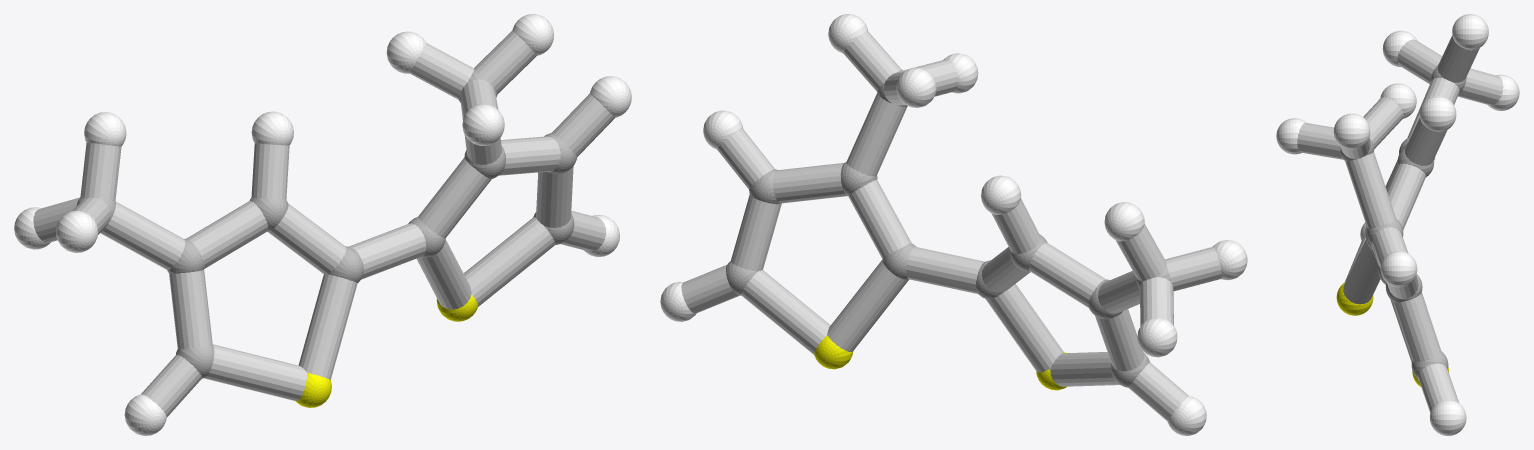
File: Methylthiophene_Phi_15_Theta_220_Methylthiophene.glb
3 renders of one model, left to right at view 1: azimuth 30°, elevation 25°; view 2: azimuth 150°, elevation 25°; view 3: azimuth 270°, elevation 25°, orthographic. The views are drawn at different scales.
Visible parts, largest first — view 1: grp7965, grp3621, grp1, grp7241; view 2: grp7965, grp3621, grp1, grp7241; view 3: grp7965, grp3621, grp1, grp7241.
Boxes of the visible parts, x1=… form: grp7965: x1=33, y1=30, x2=614, y2=417; grp3621: x1=14, y1=14, x2=631, y2=435; grp1: x1=76, y1=70, x2=577, y2=378; grp7241: x1=296, y1=294, x2=478, y2=407; grp7965: x1=681, y1=31, x2=1221, y2=420; grp3621: x1=660, y1=14, x2=1247, y2=435; grp1: x1=726, y1=70, x2=1170, y2=387; grp7241: x1=814, y1=335, x2=1066, y2=390; grp7965: x1=1297, y1=35, x2=1503, y2=412; grp3621: x1=1276, y1=14, x2=1519, y2=435; grp1: x1=1340, y1=64, x2=1466, y2=378; grp7241: x1=1336, y1=282, x2=1448, y2=386.
Bounding box in the file's own units: 9.56 × 5.28 × 3.97.
